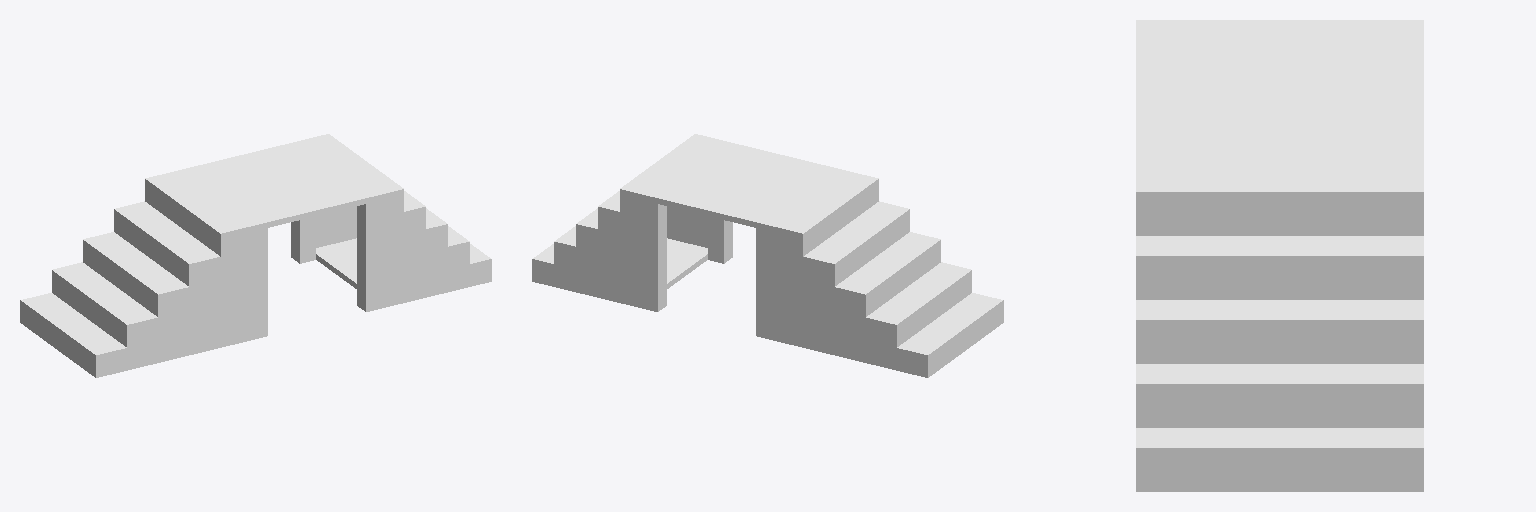
robot.urdf — terrain-stairs_2:
<?xml version="1.0" encoding="utf-8"?>
<!-- This URDF was automatically created by SolidWorks to URDF Exporter! Originally created by [author] ([email redacted]) 
     Commit Version: 1.6.0-4-g7f85cfe  Build Version: 1.6.7995.38578
     For more information, please see http://wiki.ros.org/sw_urdf_exporter -->
<robot
  name="terrain-stairs_2">
  <link
    name="base_link">
    <inertial>
      <origin
        xyz="1.8257 0.6 0.43907"
        rpy="0 0 0" />
      <mass
        value="314.56" />
      <inertia
        ixx="86.368"
        ixy="-1.1173E-14"
        ixz="-3.7269"
        iyy="77.018"
        iyz="-3.2926E-15"
        izz="101.08" />
    </inertial>
    <visual>
      <origin
        xyz="0 0 0"
        rpy="0 0 0" />
      <geometry>
        <mesh
          filename="package://terrain-stairs_2/meshes/base_link.STL" />
      </geometry>
      <material
        name="">
        <color
          rgba="1 1 1 1" />
      </material>
    </visual>
    <collision>
      <origin
        xyz="0 0 0"
        rpy="0 0 0" />
      <geometry>
        <mesh
          filename="package://terrain-stairs_2/meshes/base_link.STL" />
      </geometry>
    </collision>
  </link>
</robot>

--- Render facts (derived) ---
3 views of the same robot in one strip: view 1: azimuth 30°, elevation 25°; view 2: azimuth 150°, elevation 25°; view 3: azimuth 270°, elevation 25° (orthographic).
Robot: terrain-stairs_2 — 1 links, 0 joints (none); root link base_link; default pose: every joint at zero.
Visible links, largest first — view 1: base_link; view 2: base_link; view 3: base_link.
Boxes of the visible links, x1,y1,x2,y2 form: base_link: (20,134,491,377); base_link: (532,134,1003,377); base_link: (1136,20,1423,491).
Bounding box of the posed robot: 3.63 × 1.2 × 1 m (x, y, z).
1 mesh visuals loaded from 1 distinct referenced files (1 binary STL).